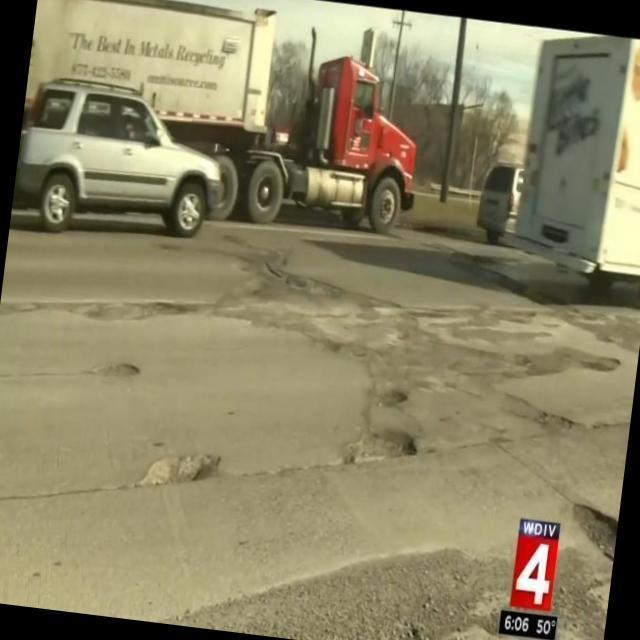Pothole: (346, 426, 413, 465), (577, 503, 613, 563), (152, 450, 214, 477), (376, 383, 405, 404)
